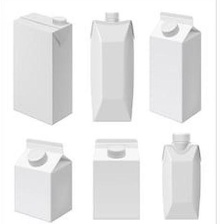carton: (10, 10, 77, 128), (145, 7, 203, 126), (85, 6, 140, 123), (7, 134, 78, 222), (87, 134, 144, 219), (156, 130, 204, 223)
